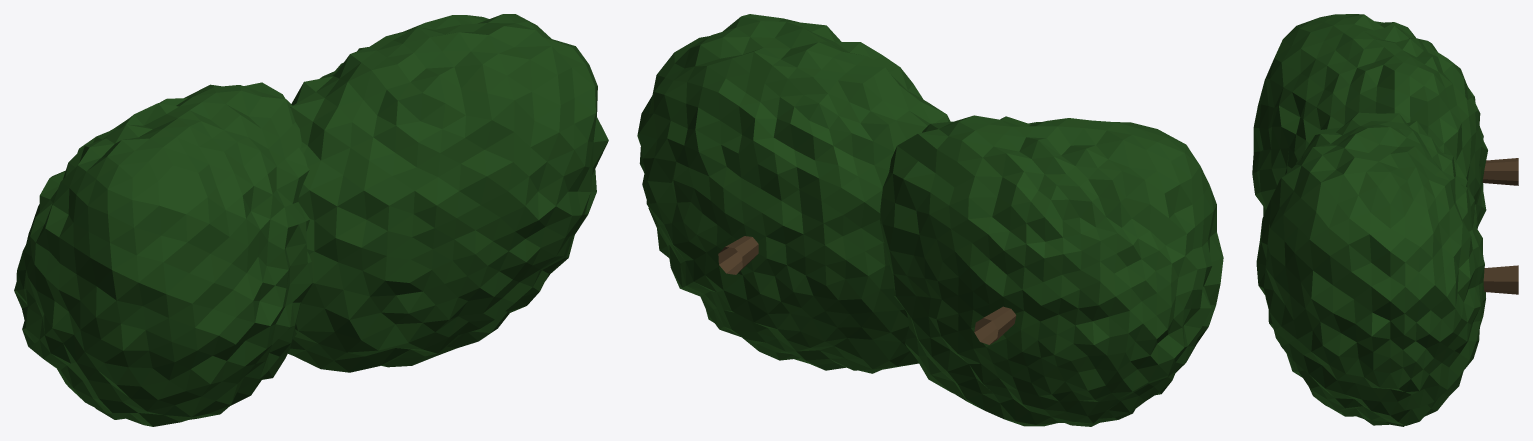
Rendered from citrus_run2_d.obj.
3 renders of one model, left to right at view 1: azimuth 30°, elevation 25°; view 2: azimuth 150°, elevation 25°; view 3: azimuth 270°, elevation 25°, orthographic. The views are drawn at different scales.
Visible parts, largest first — view 1: canopy; view 2: canopy, trunk; view 3: canopy, trunk.
Part boxes in pixels (bbox=[...]): canopy: bbox=[14, 14, 608, 426]; canopy: bbox=[637, 14, 1223, 426]; trunk: bbox=[718, 236, 1016, 344]; canopy: bbox=[1252, 14, 1487, 426]; trunk: bbox=[1482, 158, 1518, 294].
Bounding box in the file's own units: 6.42 × 3.54 × 2.92.
